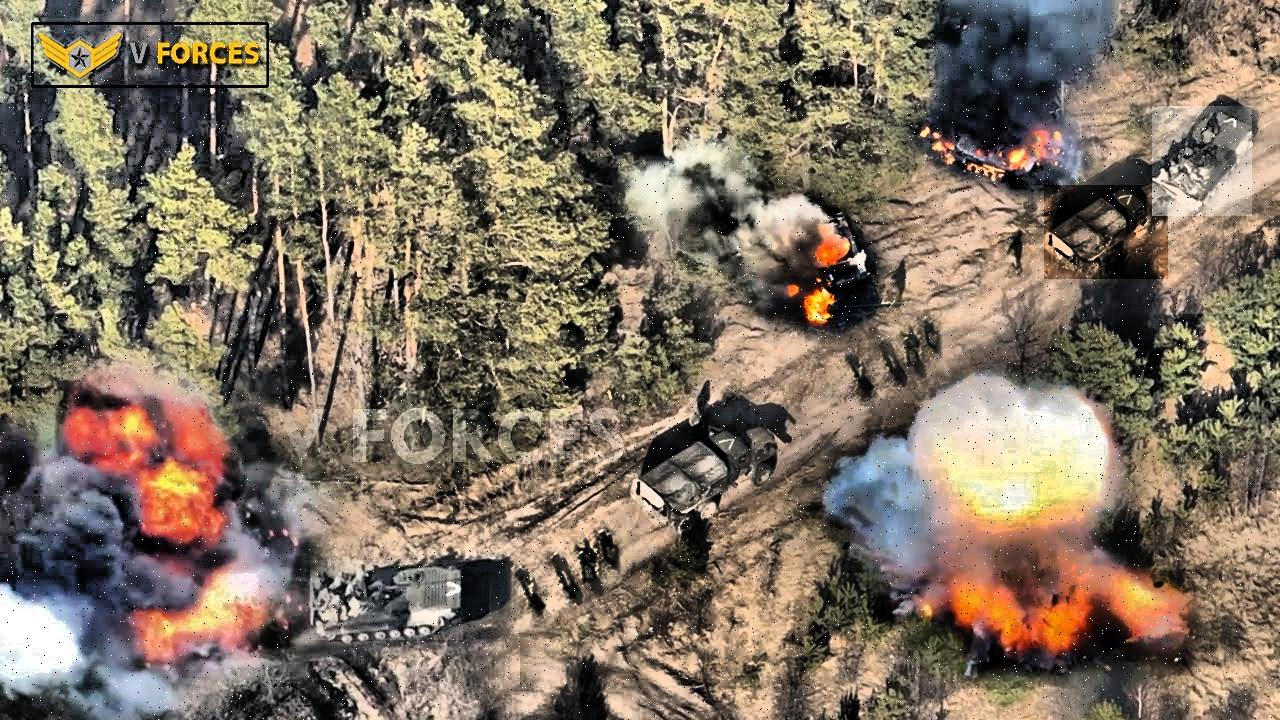military-vehicle: (633, 424, 778, 532), (310, 560, 463, 640), (1044, 186, 1168, 280), (1152, 107, 1252, 217)
